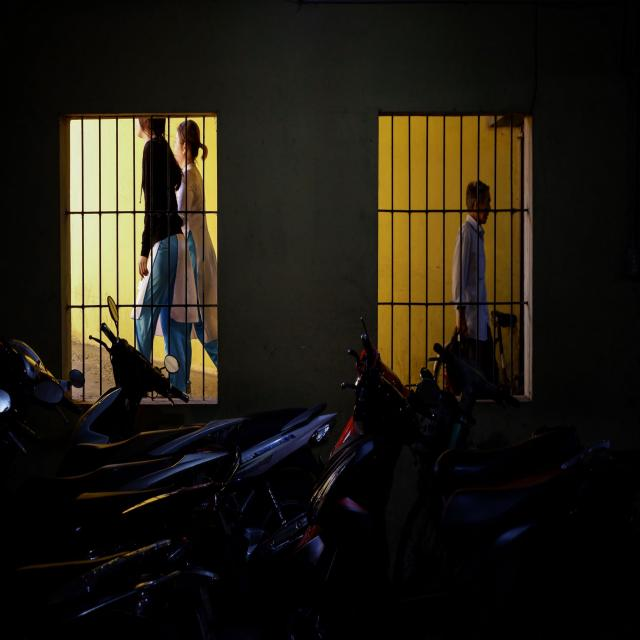adult: (134, 114, 188, 395), (174, 120, 216, 394), (452, 179, 493, 372)
